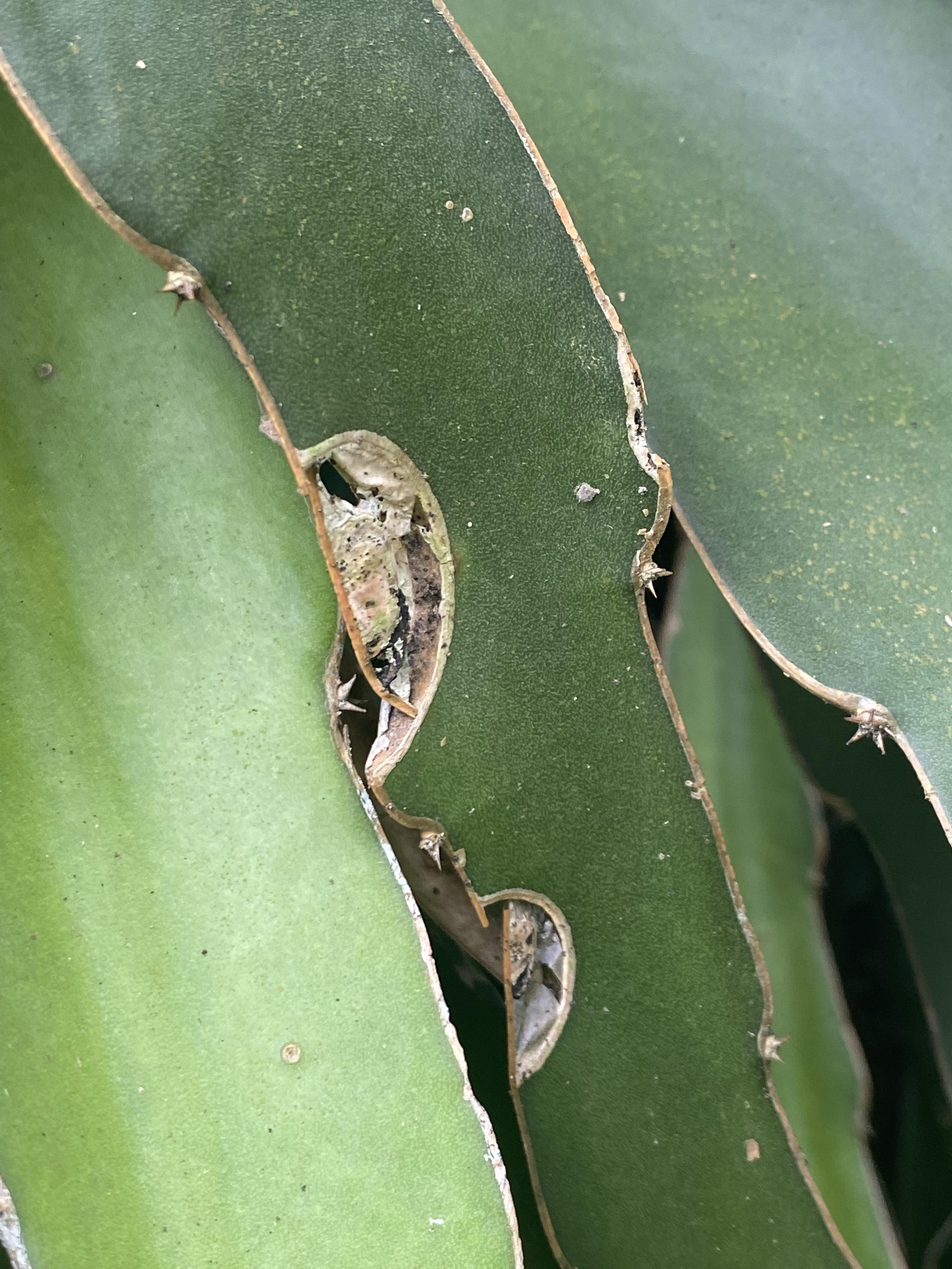stemcanker: (293, 421, 462, 798), (498, 890, 584, 1097)
